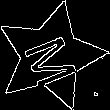M_E: (18, 25, 84, 87)
